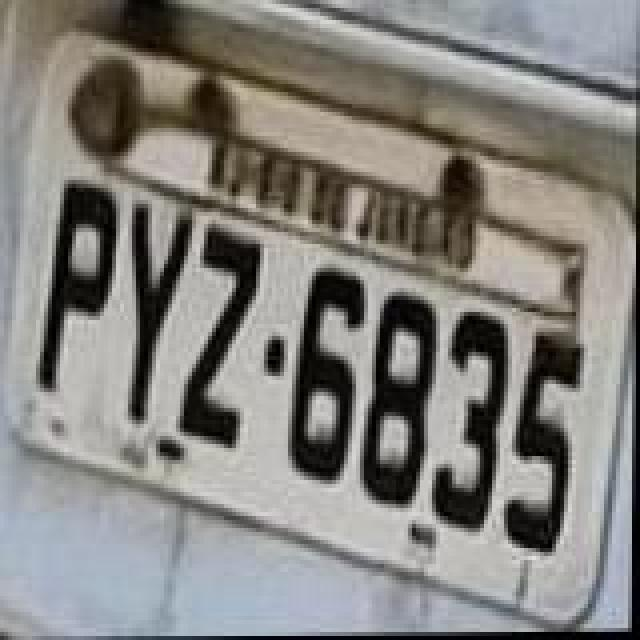3: (430, 306, 514, 530)
5: (502, 334, 590, 558)
6: (288, 264, 368, 488)
8: (362, 292, 446, 516)
P: (34, 176, 118, 400)
Y: (128, 196, 200, 424)
Z: (176, 228, 264, 456)
